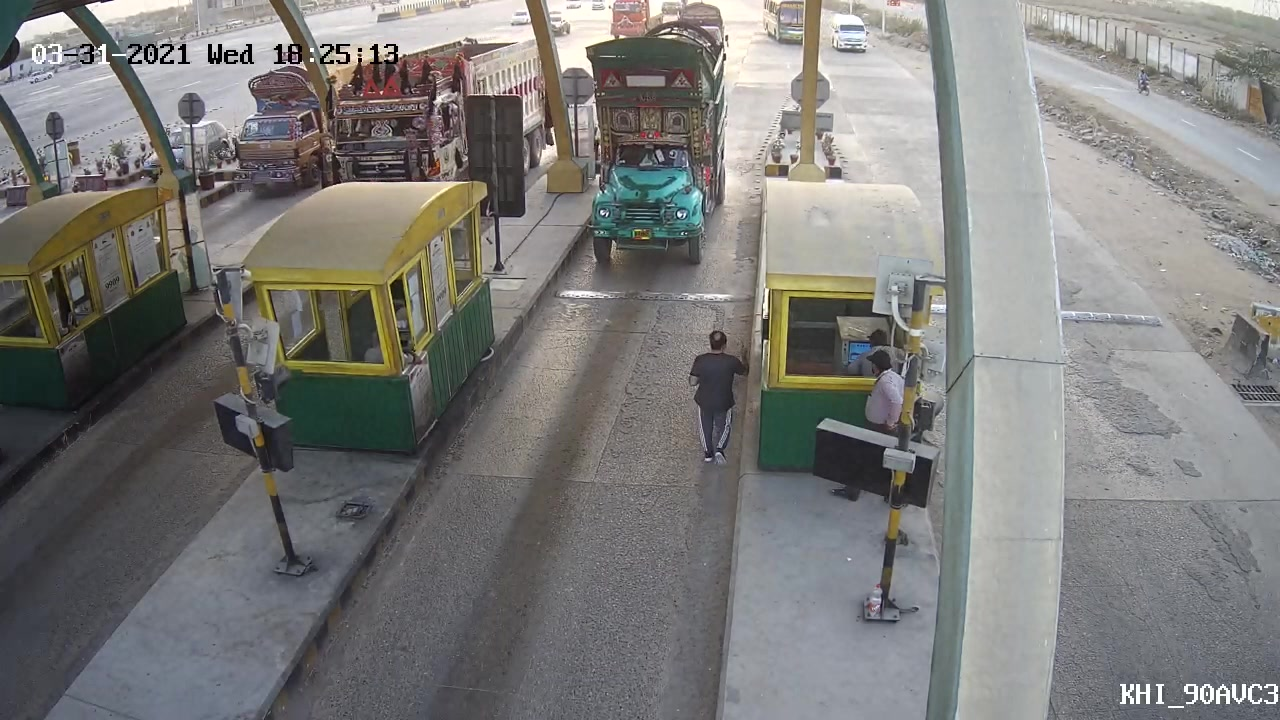F5: (573, 24, 722, 278)
